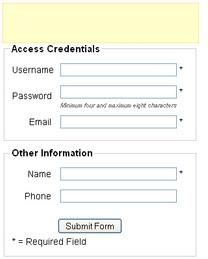button: (57, 217, 123, 234)
field: (56, 83, 179, 102), (57, 188, 181, 205), (57, 166, 179, 183), (57, 62, 179, 78), (56, 114, 177, 130)
field_with_label: (12, 82, 179, 103), (24, 186, 182, 206), (26, 164, 181, 184), (11, 61, 180, 79), (29, 113, 179, 132)
